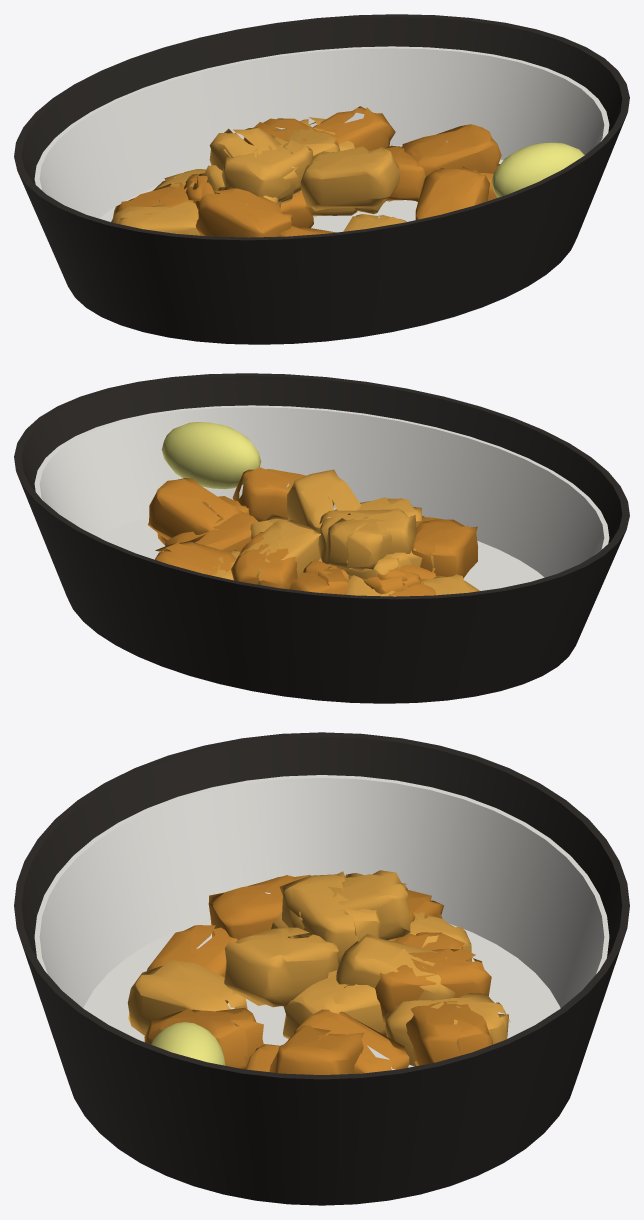
The model's file is porcao-frito.glb.
3 views of the same model, one above another, from view 1: azimuth 30°, elevation 25°; view 2: azimuth 150°, elevation 25°; view 3: azimuth 270°, elevation 25° (orthographic). The views are drawn at different scales.
Parts seen in each view (by area): view 1: porcao-frito; view 2: porcao-frito; view 3: porcao-frito.
Part boxes in pixels (left/top/right/bottom): porcao-frito: left=14, top=14, right=629, bottom=344; porcao-frito: left=14, top=373, right=629, bottom=703; porcao-frito: left=14, top=732, right=629, bottom=1205.
Size of the model in its own units: 0.24 by 0.05 by 0.18.
